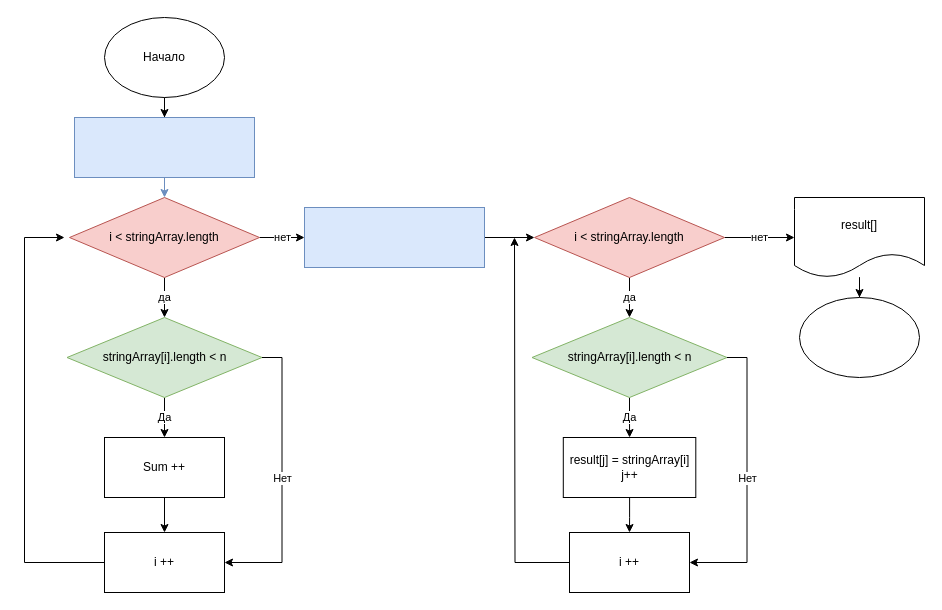
Some shapes in this 942 by 610 pixel diagram are drawn without their labels. The shapes that lost their labels are listed below. From the top down, each one's box as (x1, y1, x2, y2) in pixels, then its label:
(74, 116, 254, 178): n - целое число stringArray[] - массив из строк i = 0 sum = 0
(304, 206, 484, 268): result[sum] - массив из строк i = 0 j = 0
(798, 296, 920, 378): Конец
